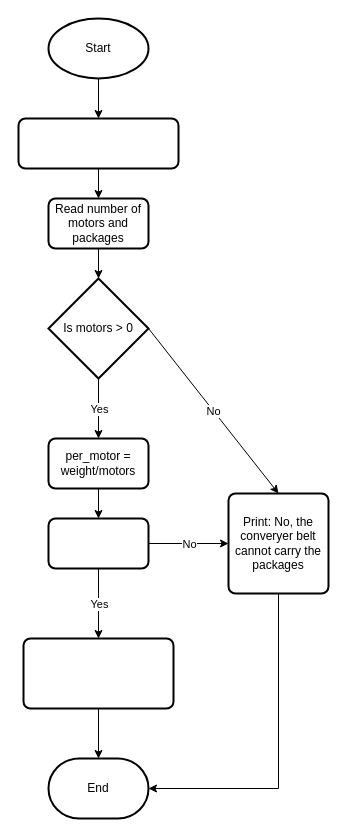
This 346x836 diagram has some shape labels left out. Here are the shapes that lost their labels. From the top down, the centre of each, then its label:
pixel 98 143: Ask user: How many motors and how many packages
pixel 98 543: per_motor <= 5,6?
pixel 98 673: Print: "Yes! The converyer belt can carry the packages."
